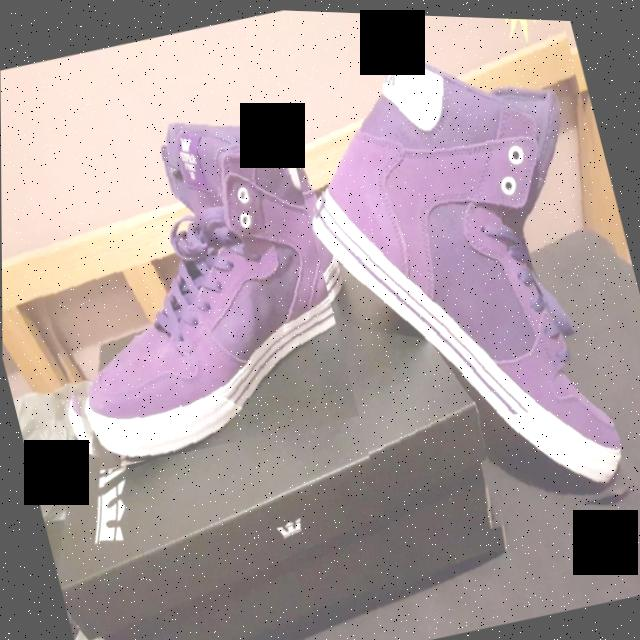shoe: (271, 8, 640, 560), (0, 53, 377, 483)
